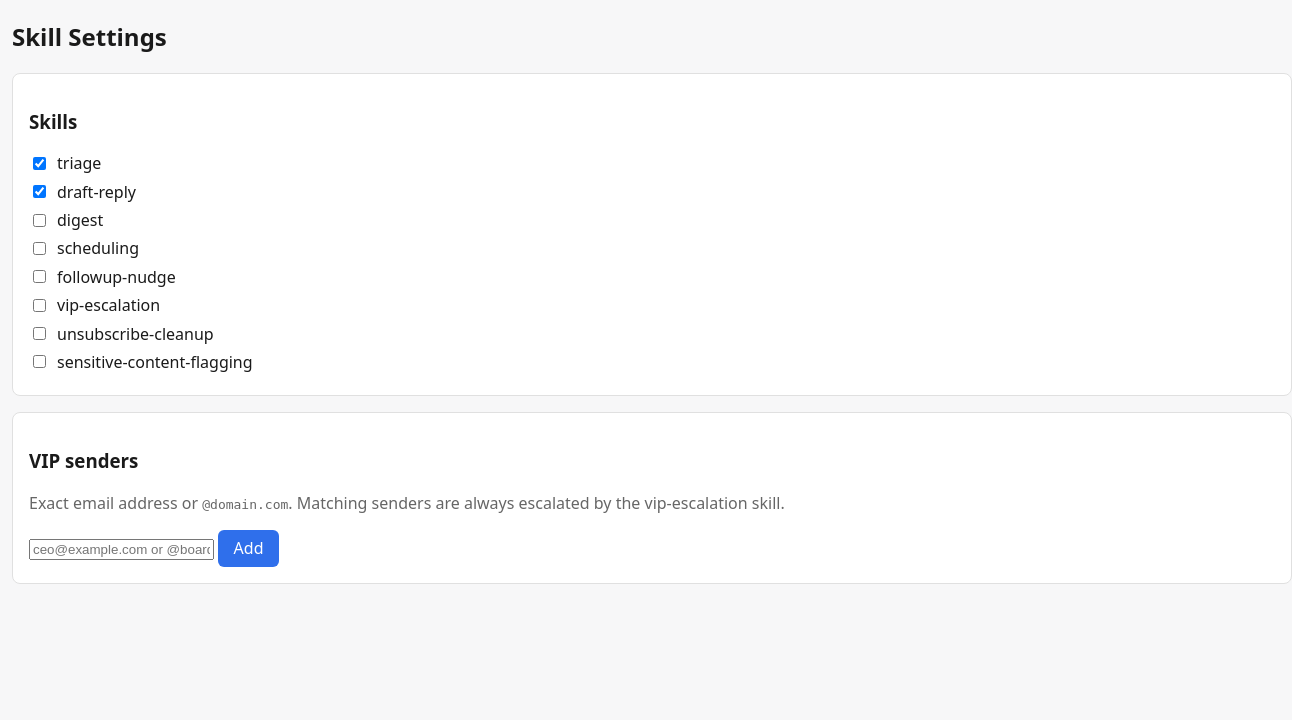
Test: SkillSettings › adds a VIP rule
expect the checkbox labelled "triage" is shown: met, box [33,157,46,170]
Type "ceo@example.com" into the field with placeholder "ceo@example.com or @board.example.com" at (122, 550), box [29,539,214,560]
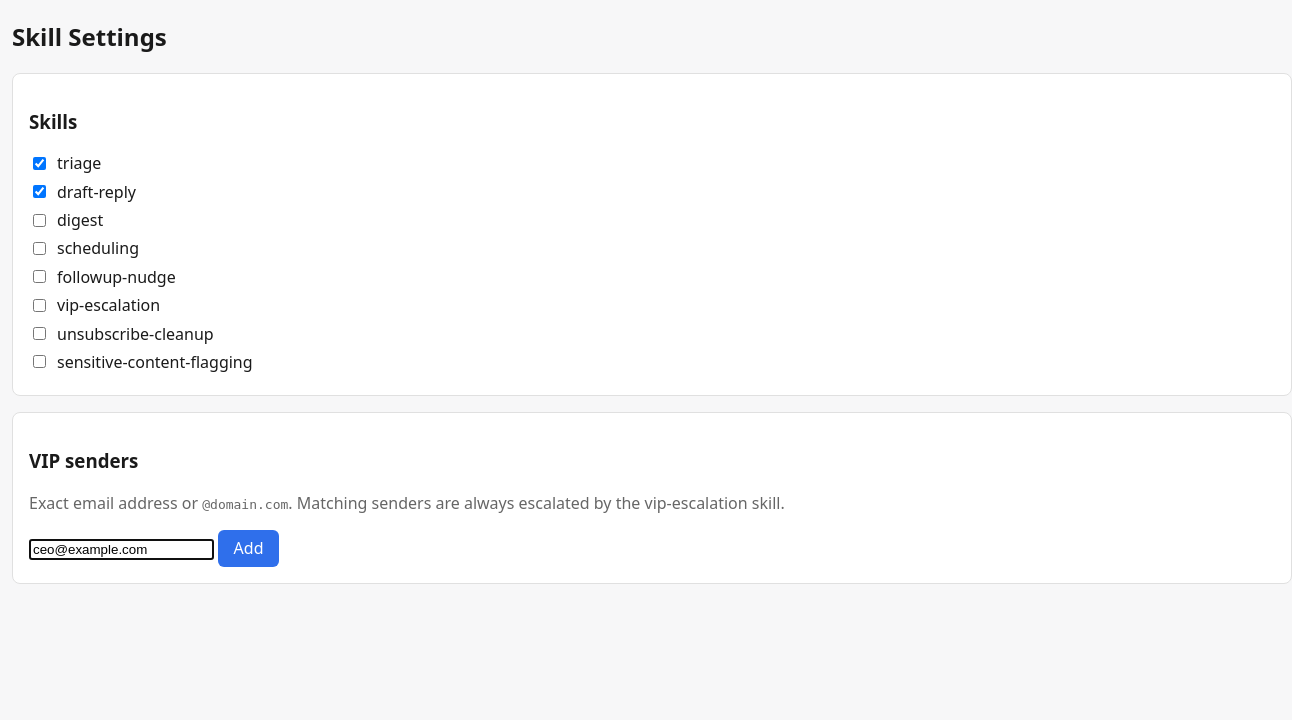
Click the button "Add" at (249, 548), box [218,530,279,567]
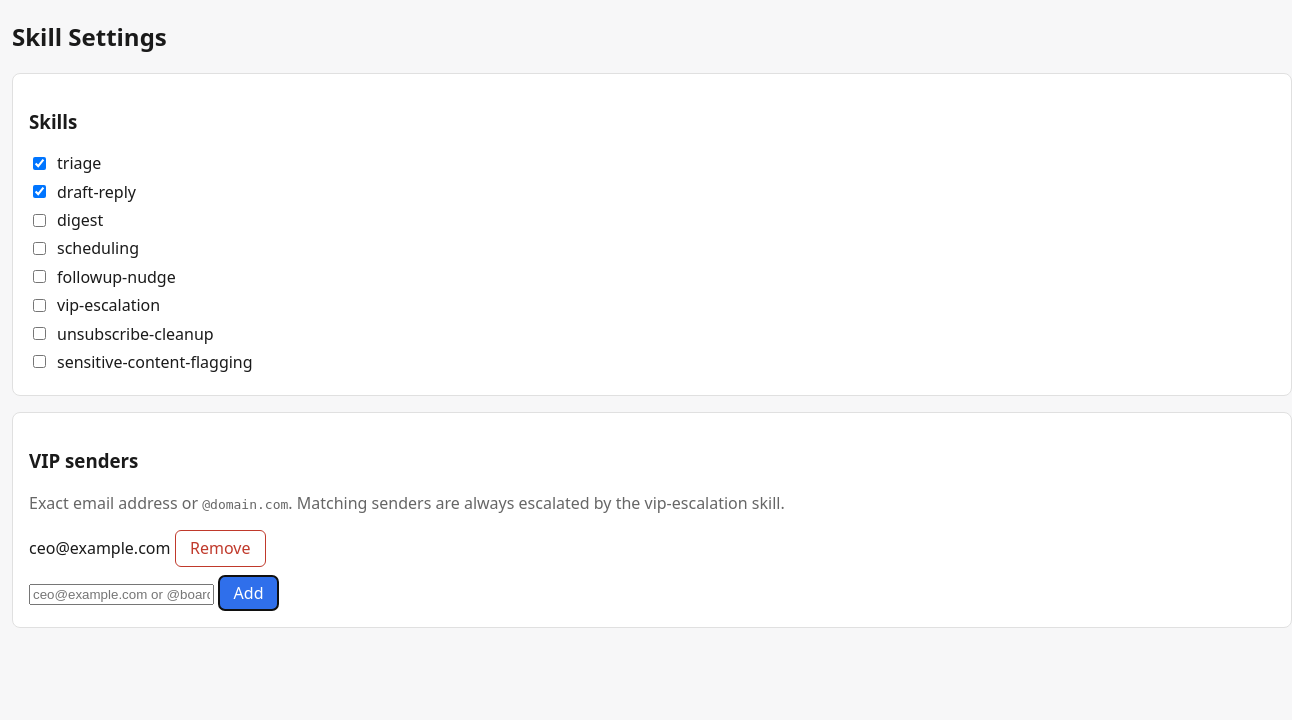
expect the text "ceo@example.com" is shown: met, box [29,537,170,559]
